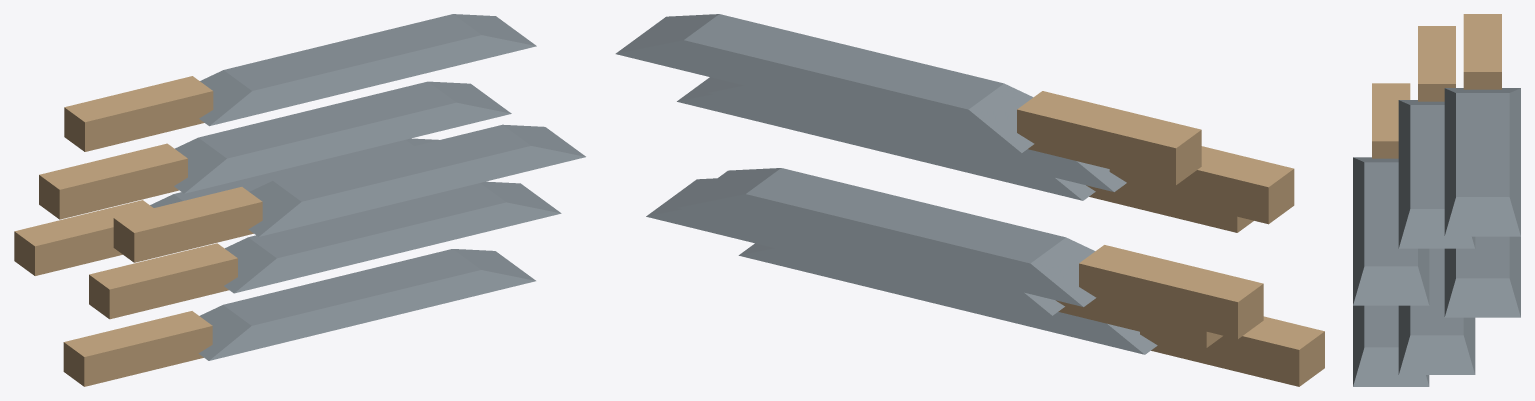
Rendered from item_107_iron_saw_l.glb.
3 renders of one model, left to right at view 1: azimuth 30°, elevation 25°; view 2: azimuth 150°, elevation 25°; view 3: azimuth 270°, elevation 25°, orthographic. The views are drawn at different scales.
Parts seen in each view (by area): view 1: item_107_iron_saw_l; view 2: item_107_iron_saw_l; view 3: item_107_iron_saw_l.
Boxes of the visible parts, x1,y1,x2,y2 form: item_107_iron_saw_l: (14,14,585,386); item_107_iron_saw_l: (615,14,1324,386); item_107_iron_saw_l: (1353,14,1520,386).
Bounding box in the file's own units: 0.69 × 0.29 × 0.22.
